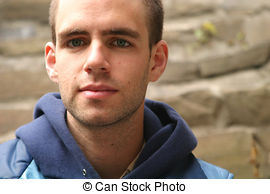face: (36, 1, 177, 132)
